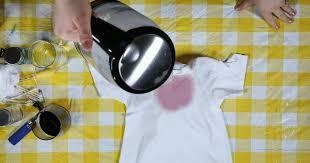wine: (158, 75, 197, 112)
